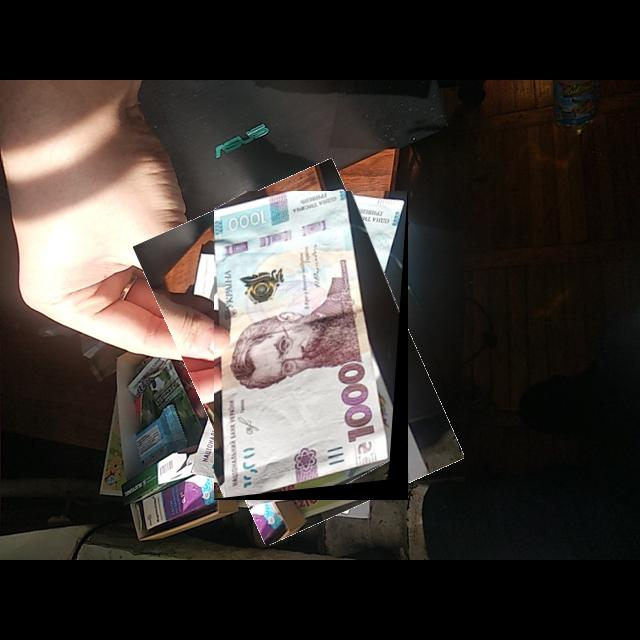1000uah: (214, 191, 394, 498)
